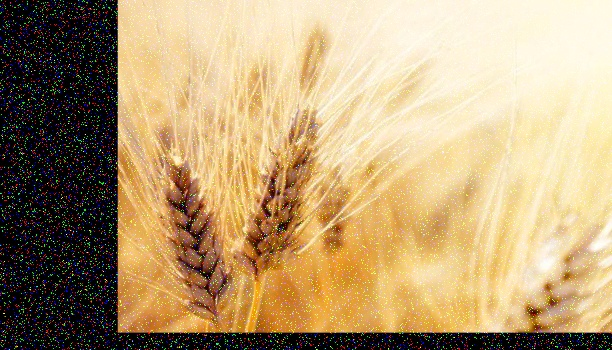wheat: (242, 48, 351, 299), (138, 116, 235, 317)
